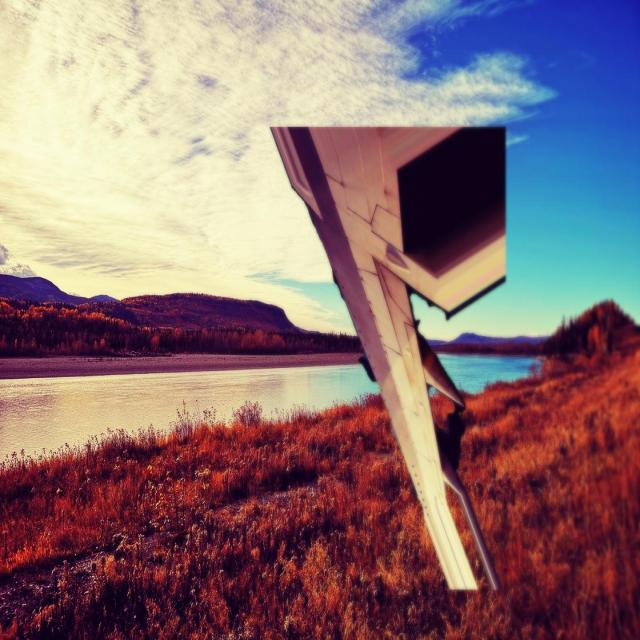airplane: (268, 124, 506, 591)
